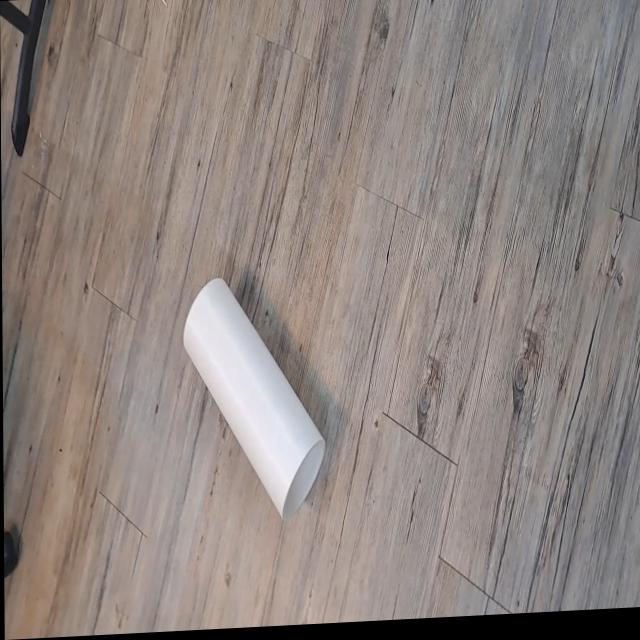CORAL: (178, 263, 342, 526)
